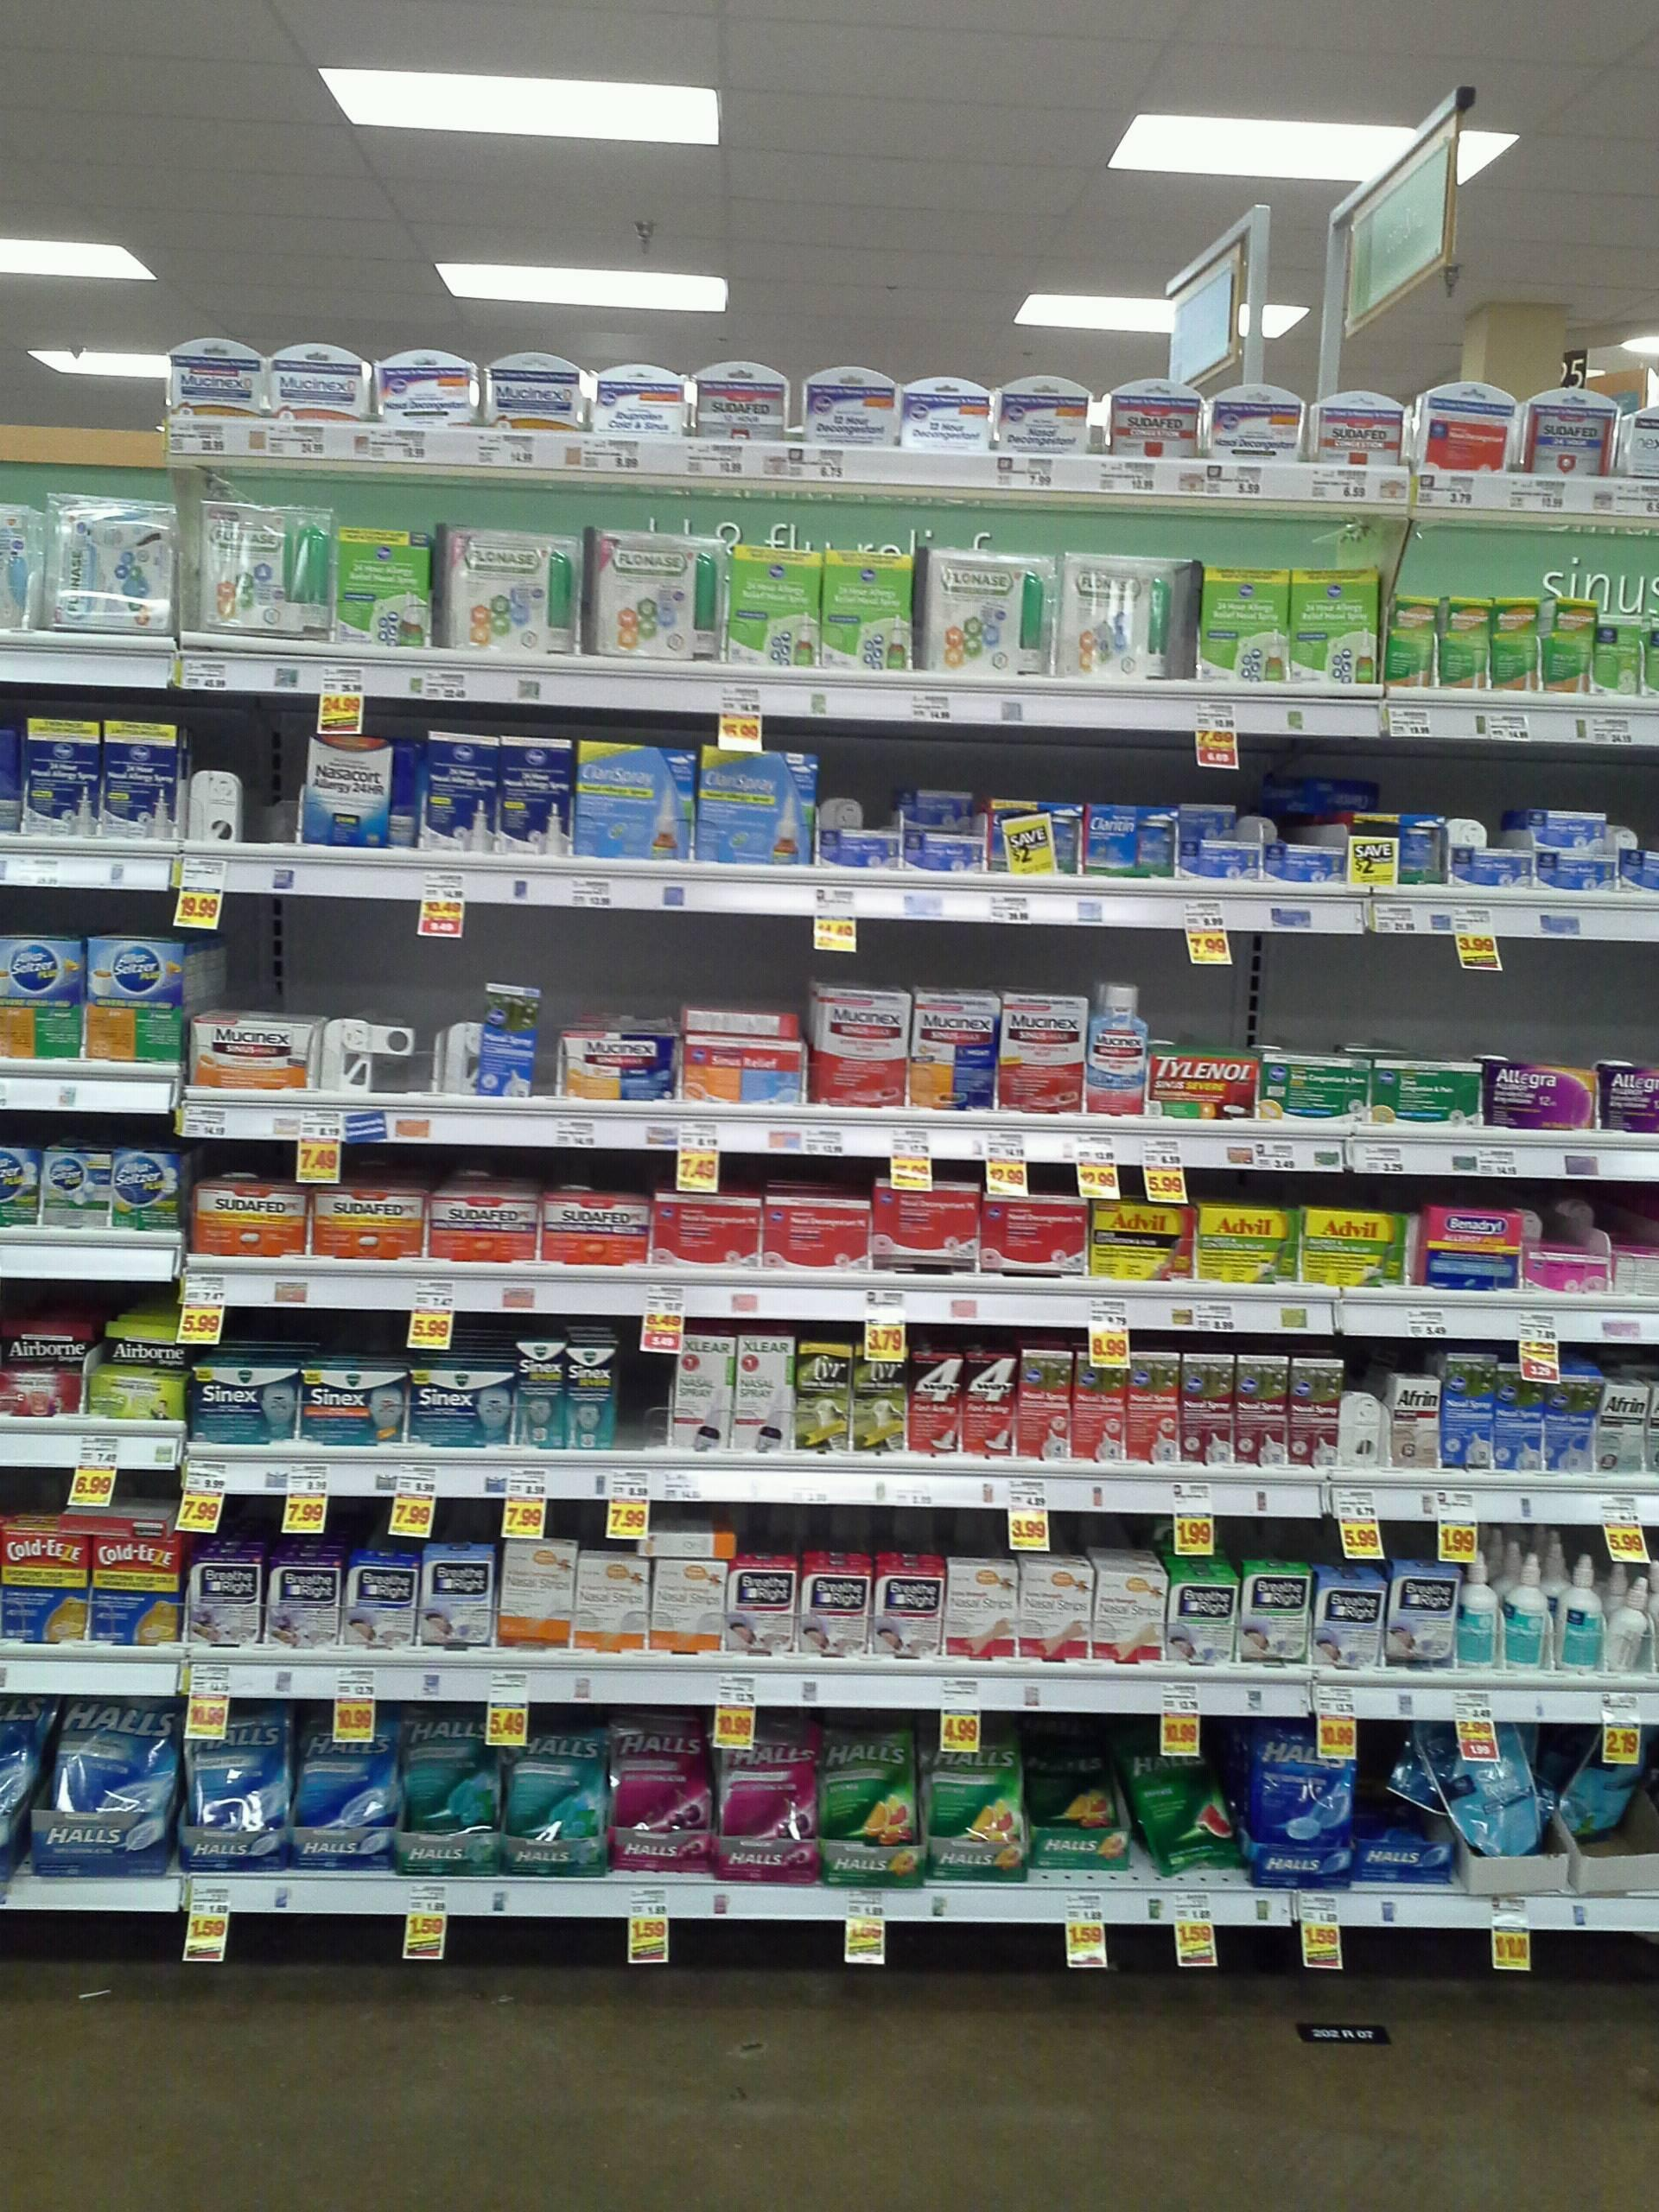empty: (329, 956, 423, 1094), (221, 702, 303, 846), (610, 1338, 666, 1447)
